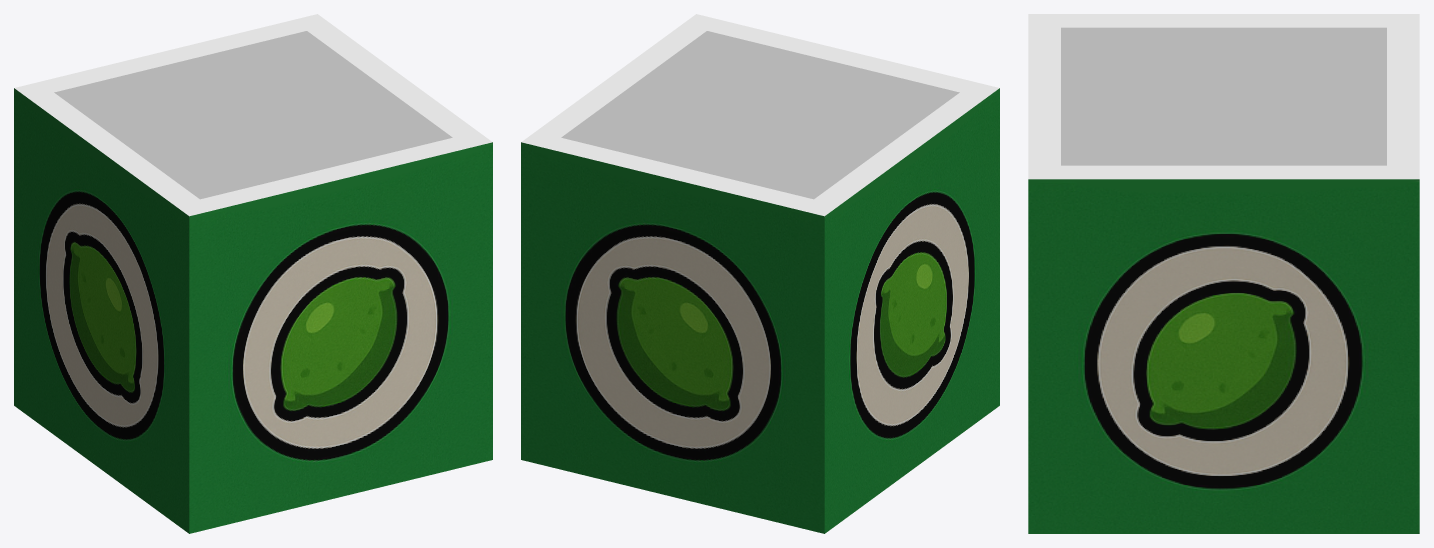
Rendered from box_green.dae.
The picture shows the model from 3 angles, left to right: view 1: azimuth 30°, elevation 25°; view 2: azimuth 150°, elevation 25°; view 3: azimuth 270°, elevation 25°; orthographic projection. The views are drawn at different scales.
Visible parts, largest first — view 1: Cube; view 2: Cube; view 3: Cube.
Boxes of the visible parts, <box> form: Cube: <box>14,14,492,533</box>; Cube: <box>521,14,999,533</box>; Cube: <box>1028,14,1419,533</box>.
Bounding box in the file's own units: 0.06 × 0.06 × 0.06.
